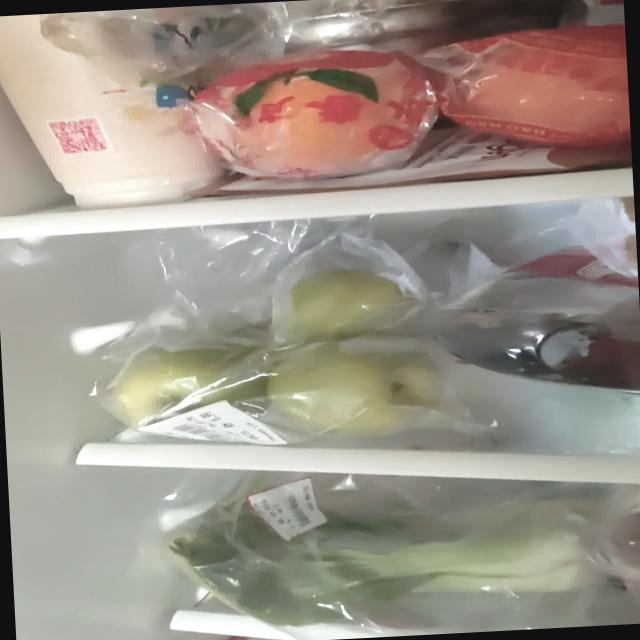apple: (100, 263, 448, 452)
orange: (196, 24, 632, 185)
pakchoy: (167, 467, 606, 640)
